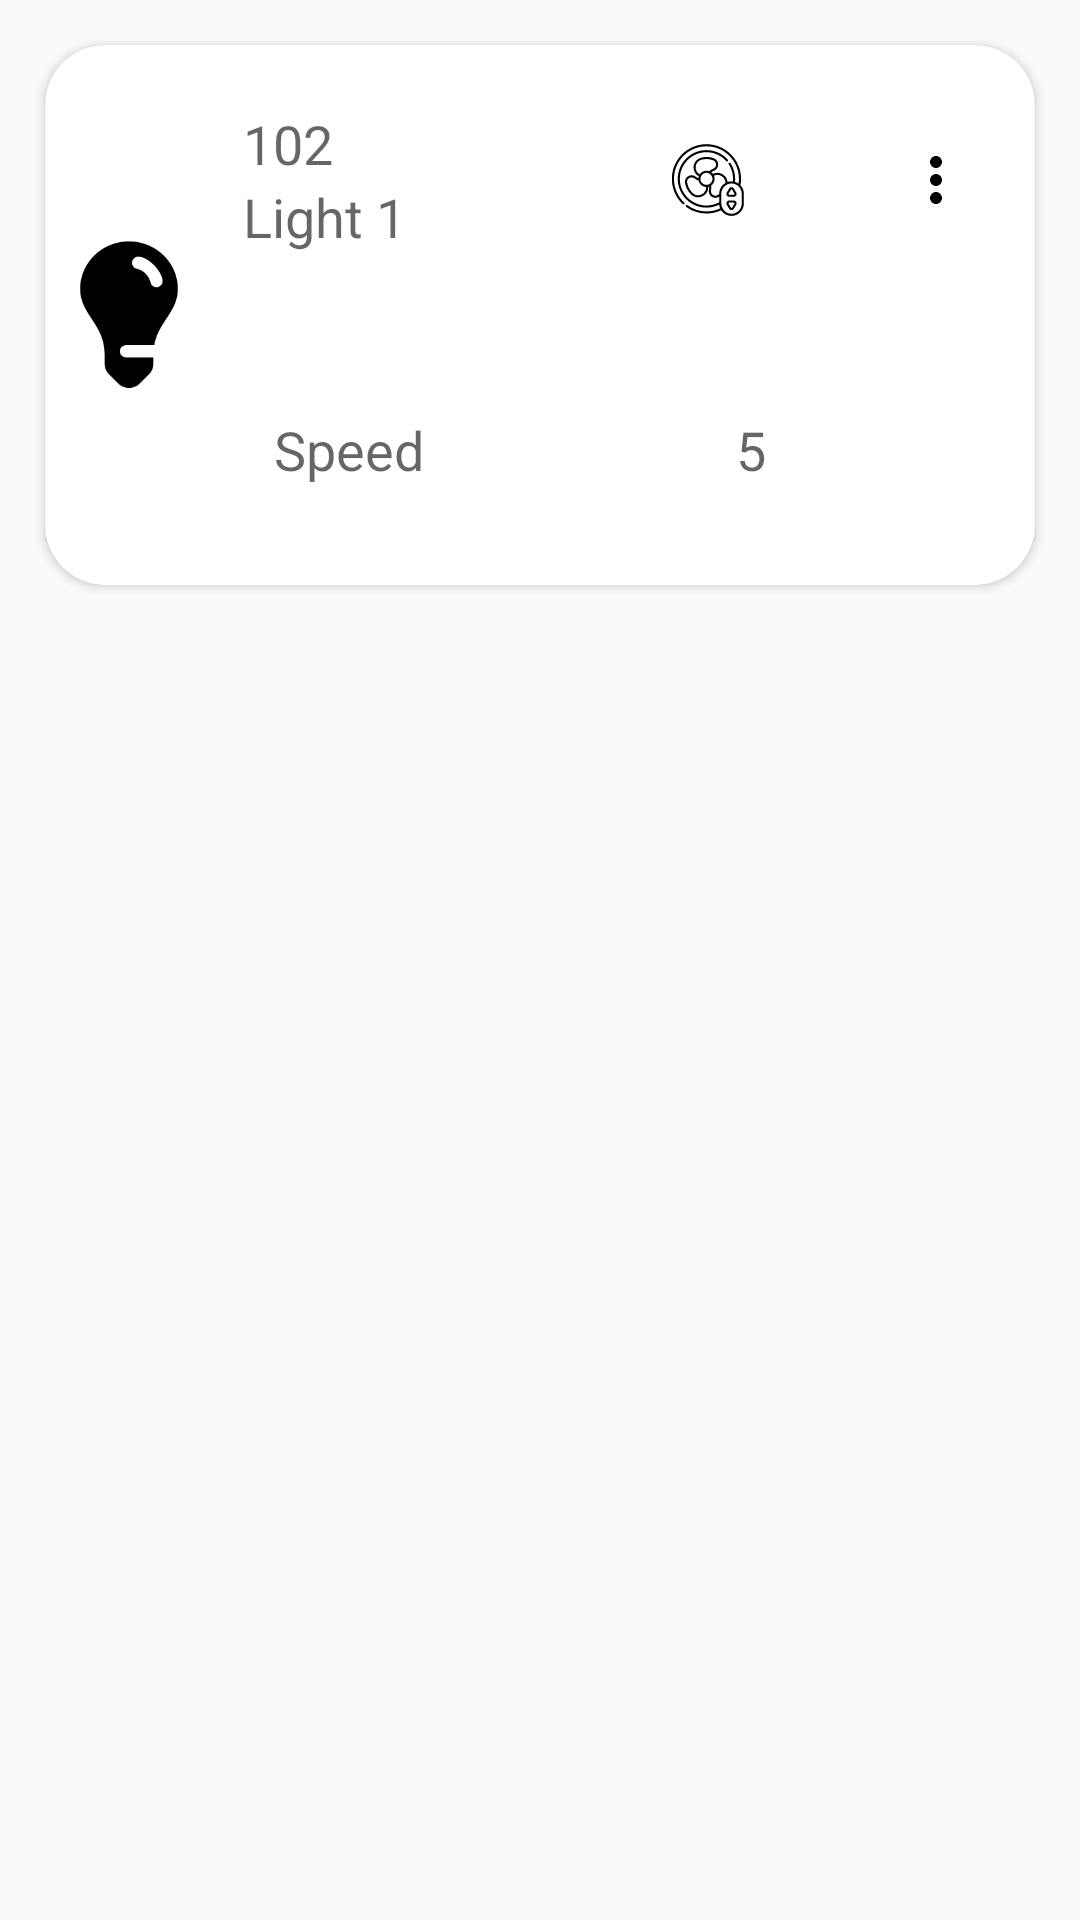

Screen size 1080px×1920px. Icon name, then its box in pixels as (x1, y1, x2, y2):
dots option menu: (930, 156, 942, 204)
fan: (672, 144, 744, 216)
